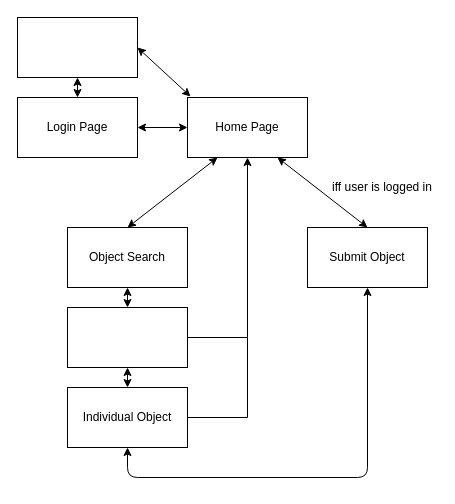
Image size: 455x504. Some labels were removed from this diagram. The box of each missing label's shape, as (x1, y1, x2, y2) in pixels:
Registration Page: (16, 16, 138, 78)
Search Results: (66, 306, 188, 368)
